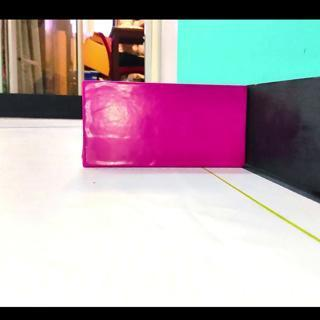xparking: (82, 82, 245, 168)
